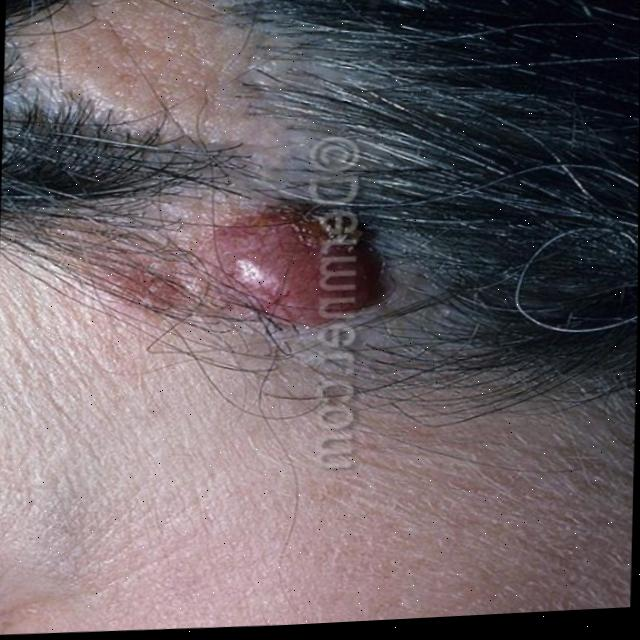Eczema: (203, 173, 383, 339)
